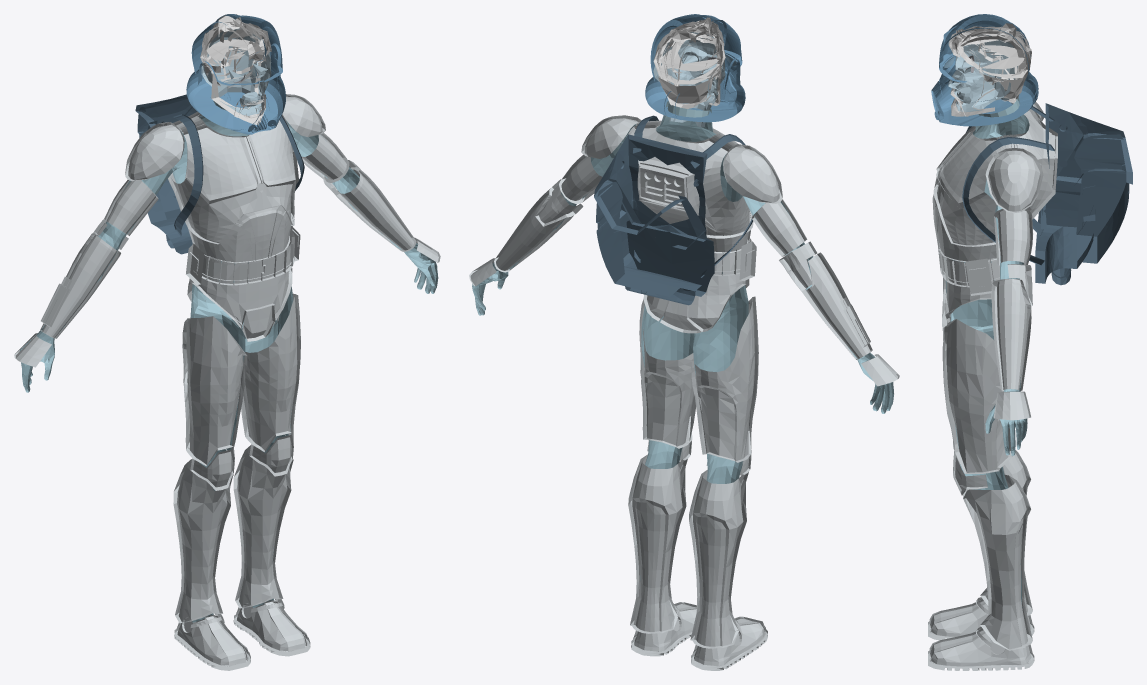
Rendered from 821_engineer.glb.
3 renders of one model, left to right at view 1: azimuth 30°, elevation 25°; view 2: azimuth 150°, elevation 25°; view 3: azimuth 270°, elevation 25°, orthographic.
Visible parts, largest first — view 1: bg_01_armor__option_00_clone_armor.smd__mesh_00, bg_00_body__option_00_body.smd__mesh_00, bg_05_Backpack__option_01_backpack.smd__mesh_00, bg_02_helmet__option_00_helmet_engineer.smd__mesh_00, bg_02_helmet__option_01_new_head.smd__mesh_00, bg_04_Facial Hair__option_05_fhair_beard.smd__mesh_00; view 2: bg_01_armor__option_00_clone_armor.smd__mesh_00, bg_05_Backpack__option_01_backpack.smd__mesh_00, bg_00_body__option_00_body.smd__mesh_00, bg_02_helmet__option_00_helmet_engineer.smd__mesh_00, bg_02_helmet__option_01_new_head.smd__mesh_00, bg_03_Hair__option_04_hair4_reference.smd__mesh_00, bg_03_Hair__option_15_hair_slick.smd__mesh_00; view 3: bg_01_armor__option_00_clone_armor.smd__mesh_00, bg_05_Backpack__option_01_backpack.smd__mesh_00, bg_00_body__option_00_body.smd__mesh_00, bg_02_helmet__option_00_helmet_engineer.smd__mesh_00, bg_02_helmet__option_01_new_head.smd__mesh_00, bg_03_Hair__option_15_hair_slick.smd__mesh_00, bg_03_Hair__option_04_hair4_reference.smd__mesh_00, bg_03_Hair__option_10_clone_hair_party.smd__mesh_00, bg_04_Facial Hair__option_05_fhair_beard.smd__mesh_00, bg_03_Hair__option_13_hair_gree.smd__mesh_00, bg_03_Hair__option_08_clone_hair_elvis.smd__mesh_00, bg_03_Hair__option_07_hair7_reference.smd__mesh_00 (+2 smaller).
Boxes of the visible parts, left/top/right/bottom form: bg_01_armor__option_00_clone_armor.smd__mesh_00: left=14, top=94, right=440, bottom=670; bg_00_body__option_00_body.smd__mesh_00: left=19, top=101, right=438, bottom=622; bg_05_Backpack__option_01_backpack.smd__mesh_00: left=135, top=94, right=304, bottom=254; bg_02_helmet__option_00_helmet_engineer.smd__mesh_00: left=186, top=14, right=285, bottom=134; bg_02_helmet__option_01_new_head.smd__mesh_00: left=201, top=28, right=271, bottom=116; bg_04_Facial Hair__option_05_fhair_beard.smd__mesh_00: left=211, top=58, right=266, bottom=125; bg_01_armor__option_00_clone_armor.smd__mesh_00: left=469, top=115, right=899, bottom=670; bg_05_Backpack__option_01_backpack.smd__mesh_00: left=594, top=115, right=752, bottom=305; bg_00_body__option_00_body.smd__mesh_00: left=472, top=101, right=893, bottom=580; bg_02_helmet__option_00_helmet_engineer.smd__mesh_00: left=645, top=14, right=745, bottom=122; bg_02_helmet__option_01_new_head.smd__mesh_00: left=653, top=31, right=725, bottom=127; bg_03_Hair__option_04_hair4_reference.smd__mesh_00: left=657, top=29, right=725, bottom=103; bg_03_Hair__option_15_hair_slick.smd__mesh_00: left=660, top=27, right=719, bottom=71; bg_01_armor__option_00_clone_armor.smd__mesh_00: left=928, top=102, right=1057, bottom=670; bg_05_Backpack__option_01_backpack.smd__mesh_00: left=962, top=103, right=1132, bottom=285; bg_00_body__option_00_body.smd__mesh_00: left=945, top=97, right=1029, bottom=607; bg_02_helmet__option_00_helmet_engineer.smd__mesh_00: left=931, top=14, right=1038, bottom=126; bg_02_helmet__option_01_new_head.smd__mesh_00: left=948, top=33, right=1023, bottom=112; bg_03_Hair__option_15_hair_slick.smd__mesh_00: left=968, top=30, right=1024, bottom=69; bg_03_Hair__option_04_hair4_reference.smd__mesh_00: left=957, top=35, right=1031, bottom=98; bg_03_Hair__option_10_clone_hair_party.smd__mesh_00: left=959, top=26, right=1030, bottom=83; bg_04_Facial Hair__option_05_fhair_beard.smd__mesh_00: left=950, top=52, right=994, bottom=116; bg_03_Hair__option_13_hair_gree.smd__mesh_00: left=960, top=34, right=1025, bottom=79; bg_03_Hair__option_08_clone_hair_elvis.smd__mesh_00: left=948, top=26, right=1030, bottom=102; bg_03_Hair__option_07_hair7_reference.smd__mesh_00: left=960, top=26, right=1031, bottom=69.
Bounding box in the file's own units: 52.96 × 74.56 × 22.08.
